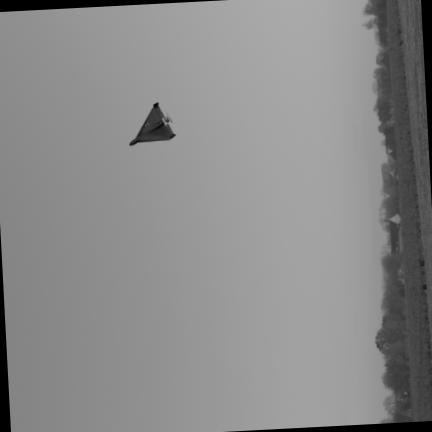Shahed: (129, 101, 175, 144)
